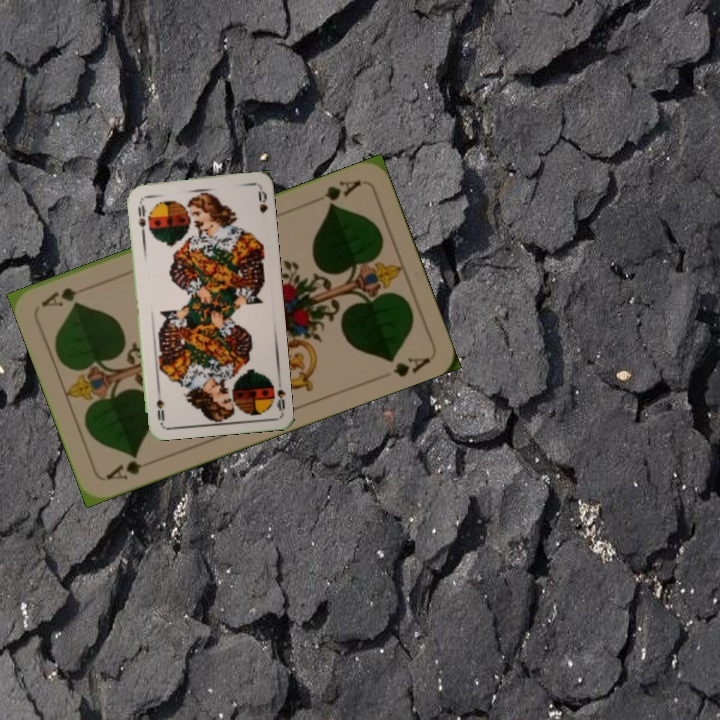GA: (320, 176, 364, 209), (102, 451, 145, 483)
SO: (266, 373, 288, 413), (134, 196, 149, 237)
